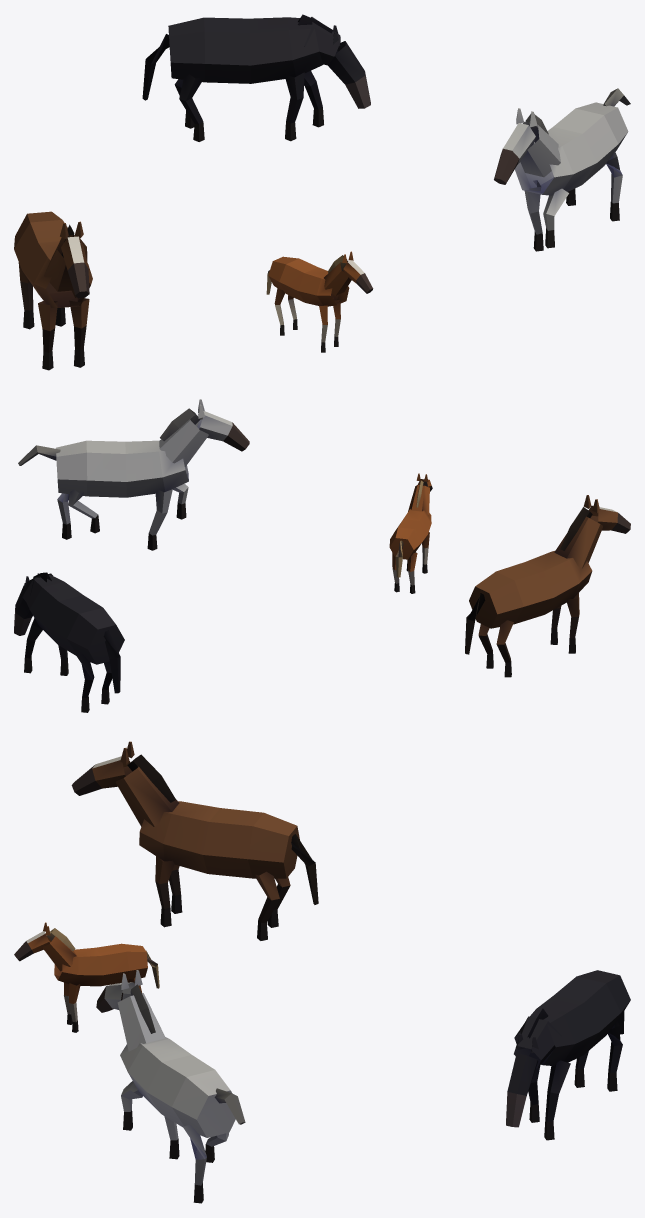
File: caballos_manada.glb
The picture shows the model from 3 angles, top to bottom: view 1: azimuth 30°, elevation 25°; view 2: azimuth 150°, elevation 25°; view 3: azimuth 270°, elevation 25°; orthographic projection. The views are drawn at different scales.
Parts seen in each view (by area): view 1: horse_2, horse_3, horse_1, horse_4; view 2: horse_3, horse_1, horse_2, horse_4; view 3: horse_1, horse_3, horse_2, horse_4.
Boxes of the visible parts, <box> form: horse_2: <box>142,14,370,141</box>; horse_3: <box>494,88,630,251</box>; horse_1: <box>14,211,92,370</box>; horse_4: <box>266,251,373,352</box>; horse_3: <box>18,399,249,550</box>; horse_1: <box>465,495,630,677</box>; horse_2: <box>14,572,124,712</box>; horse_4: <box>389,473,432,593</box>; horse_1: <box>71,741,318,940</box>; horse_3: <box>96,970,245,1203</box>; horse_2: <box>506,970,630,1140</box>; horse_4: <box>14,922,159,1032</box>.
Bounding box in the file's own units: 19.16 × 4.72 × 15.73.
